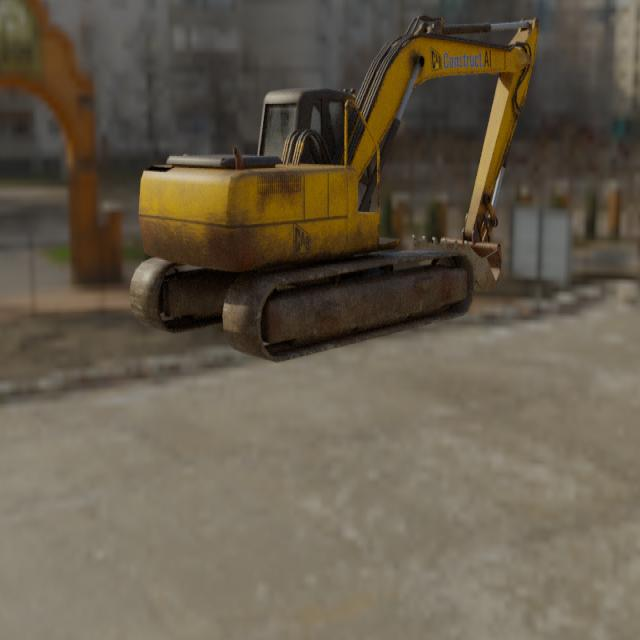excavator: (128, 13, 539, 363)
